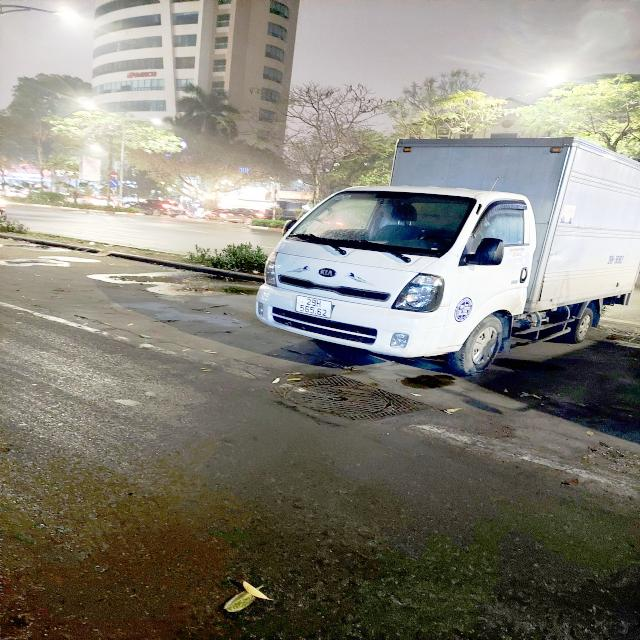license_plate: (294, 294, 337, 321)
